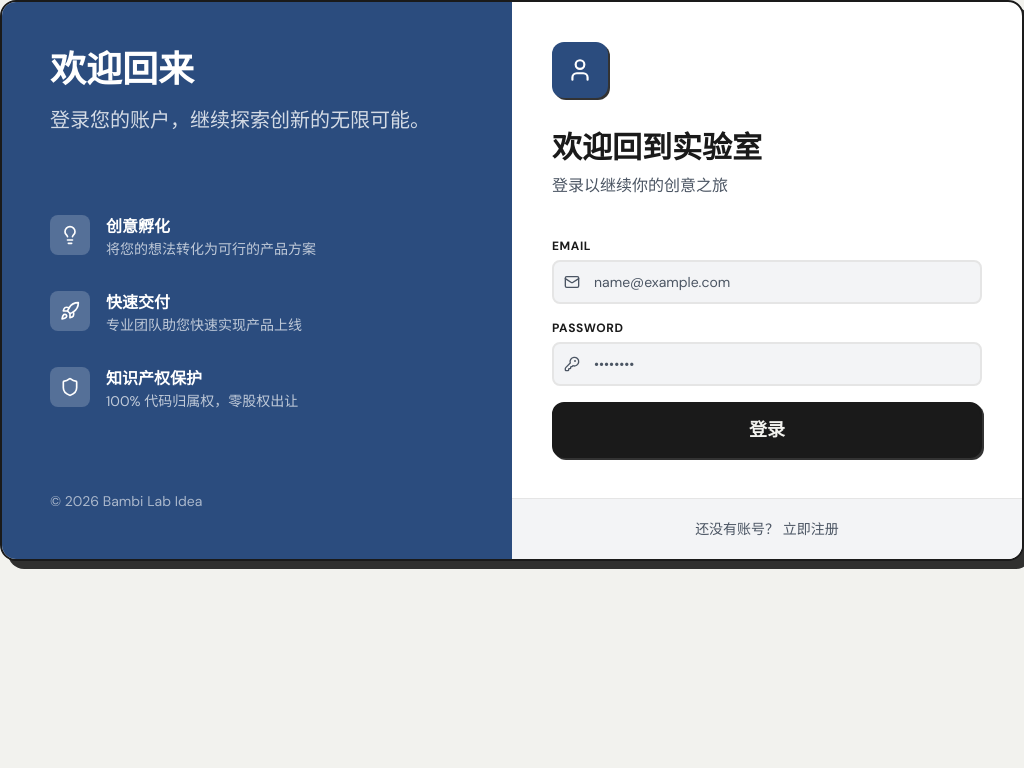
Scenario: Login Page › shows generic error for unknown exceptions
Type "test@example.com" into the field labelled "Email" at x=767, y=282, box [552,260,982,304]
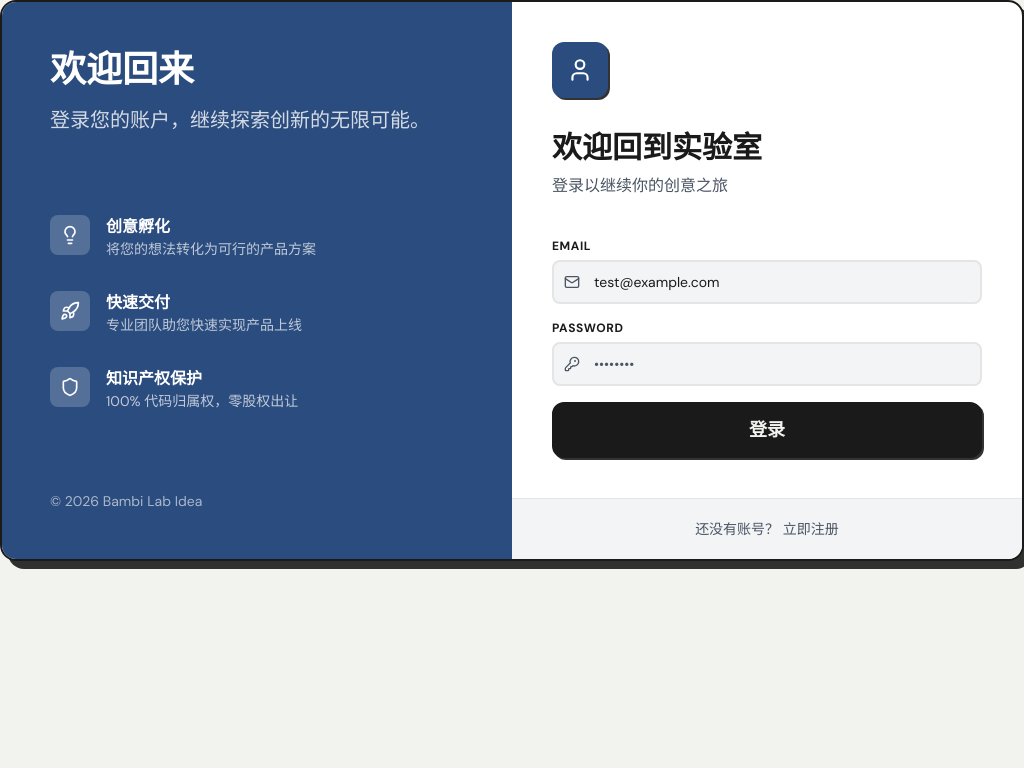
Type "password123" into the password field labelled "Password" at x=767, y=364, box [552,342,982,386]
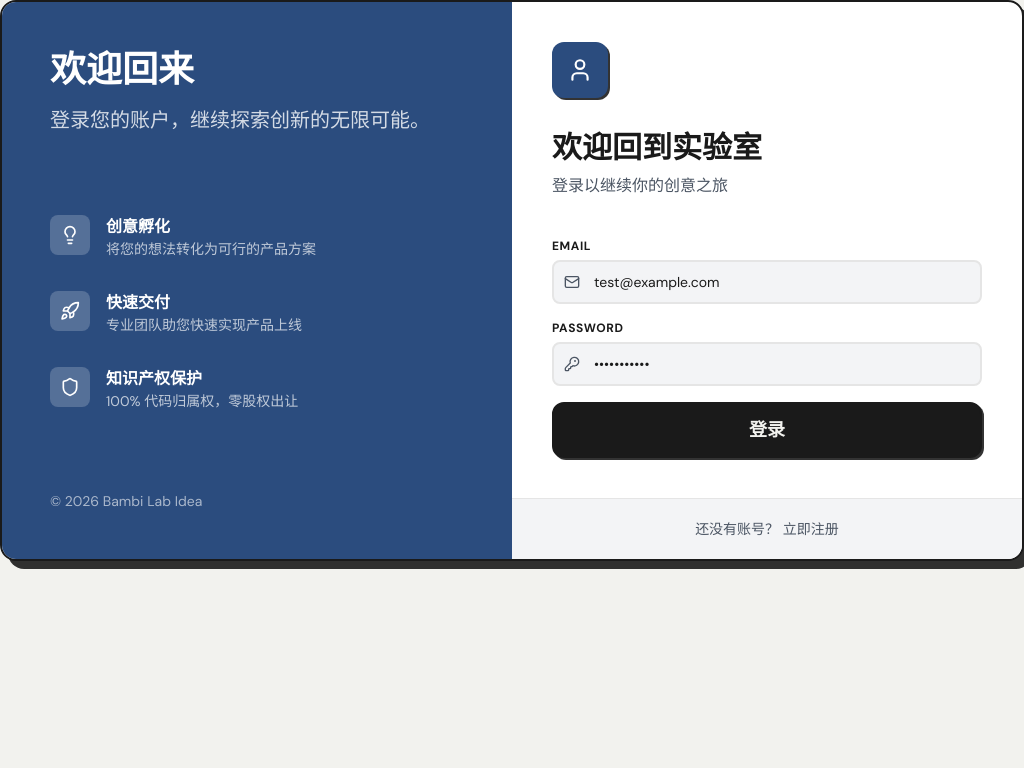
Click the button "登录" at x=767, y=430, box [552,402,982,458]
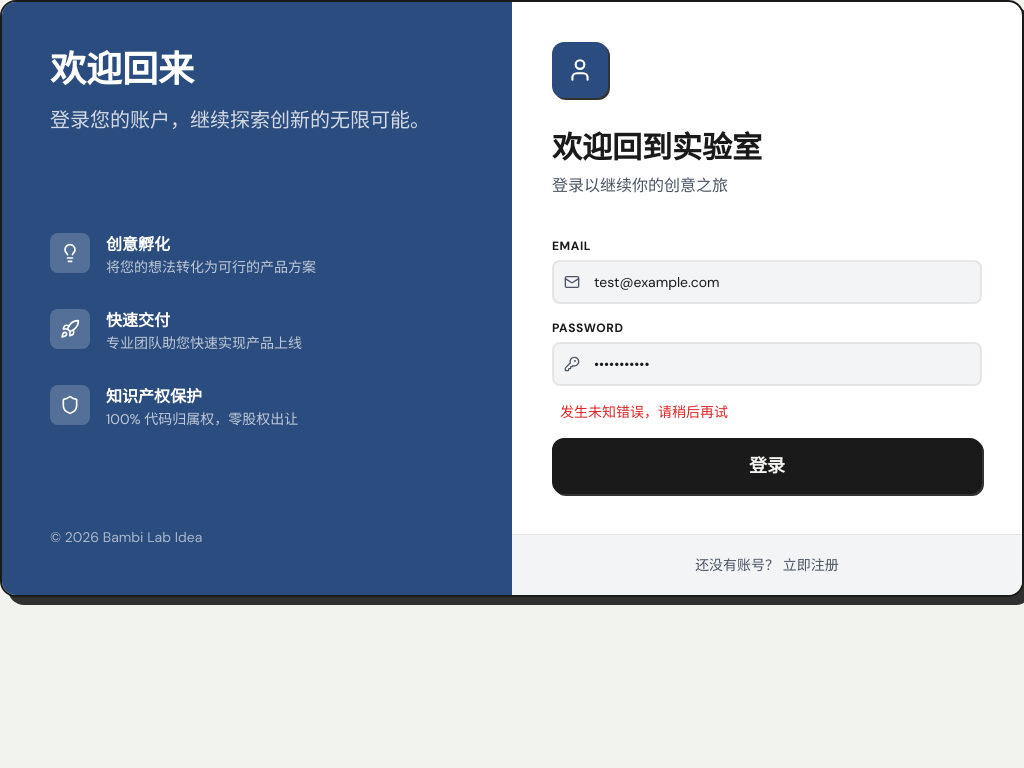
Expected: the text "发生未知错误，请稍后再试" is shown, [560,403,728,421]
